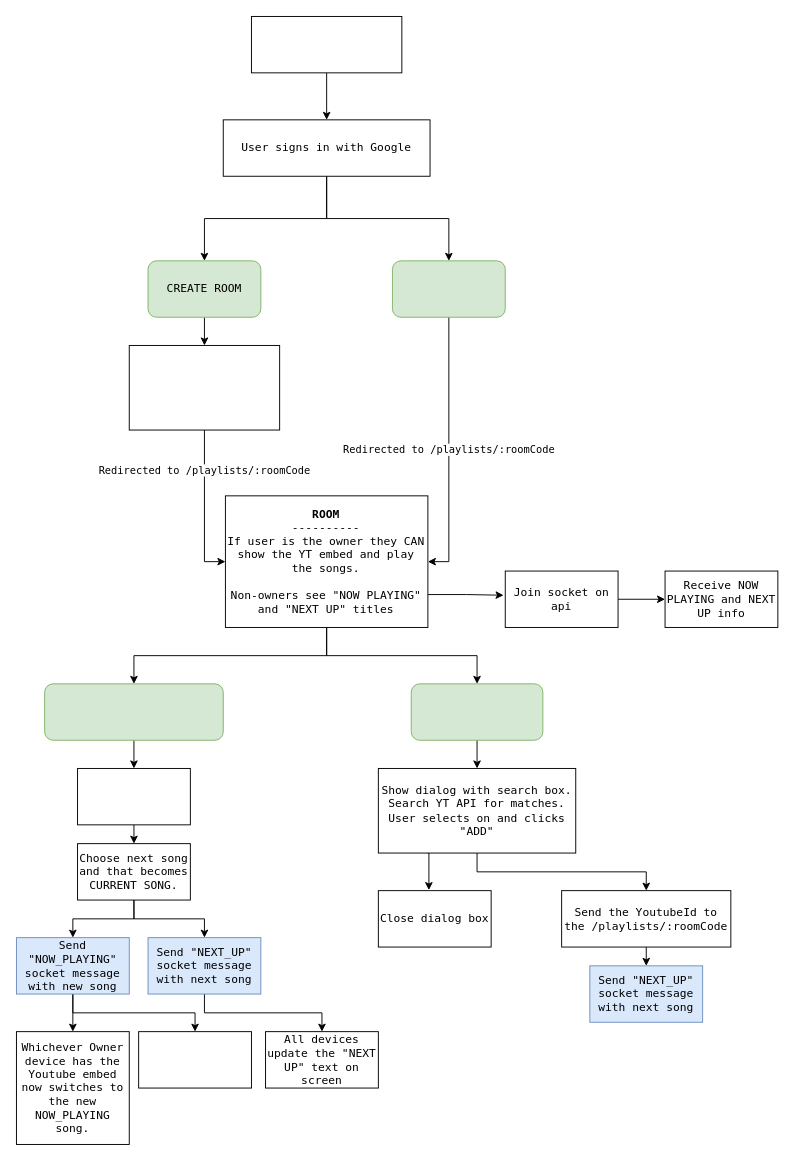
Some shapes in this 794 by 1161 pixel diagram are drawn without their labels. The shapes that lost their labels are listed below. From the top down, each one's centre as x and y in pixels, then its label:
[326,44]: User visits site
[448,288]: JOIN ROOM
[204,387]: Room code generated and returned. Current user is owner of the room.
[133,711]: Skip Song (Owner Only)
[476,711]: Search for song
[133,796]: Send API request to go to the next song.
[194,1059]: All devices update the "NOW PLAYING" text on screen
